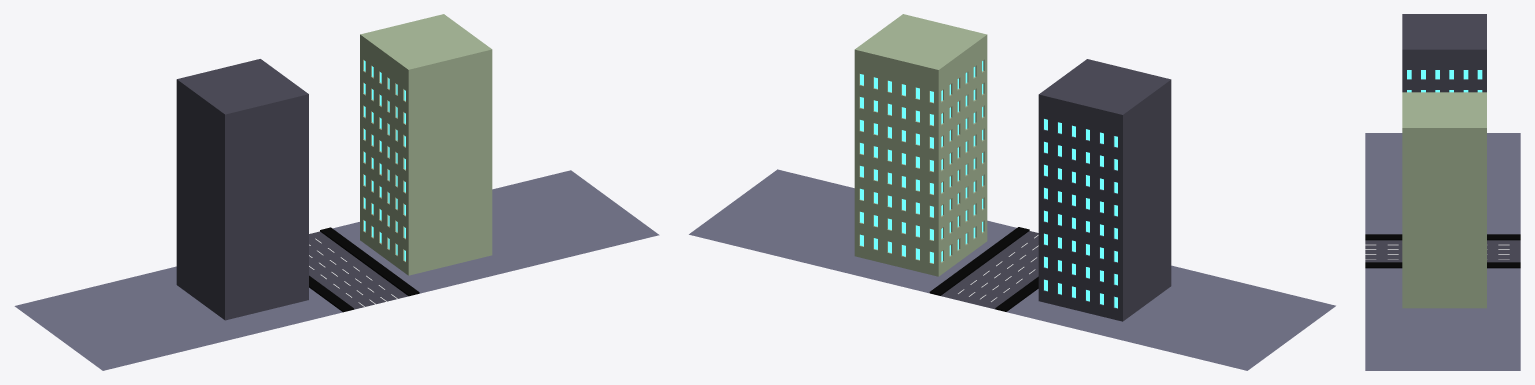
The model's file is Road3.fbx.
3 renders of one model, left to right at view 1: azimuth 30°, elevation 25°; view 2: azimuth 150°, elevation 25°; view 3: azimuth 270°, elevation 25°, orthographic. The views are drawn at different scales.
Parts seen in each view (by area): view 1: Building.002, Building.001, Ground, Road; view 2: Building.001, Building.002, Ground, Road; view 3: Ground, Building.002, Building.001, Road.
Boxes of the visible parts, x1,y1,x2,y2 form: Building.002: (360, 14, 492, 275); Building.001: (176, 59, 308, 320); Ground: (14, 170, 659, 370); Road: (309, 227, 419, 312); Building.001: (1038, 59, 1171, 321); Building.002: (854, 14, 987, 276); Ground: (689, 169, 1335, 370); Road: (929, 227, 1038, 311); Ground: (1365, 133, 1520, 370); Building.002: (1402, 92, 1486, 308); Building.001: (1402, 14, 1486, 92); Road: (1365, 234, 1520, 268).
Size of the model in its own units: 19151 by 6769 by 5285.
